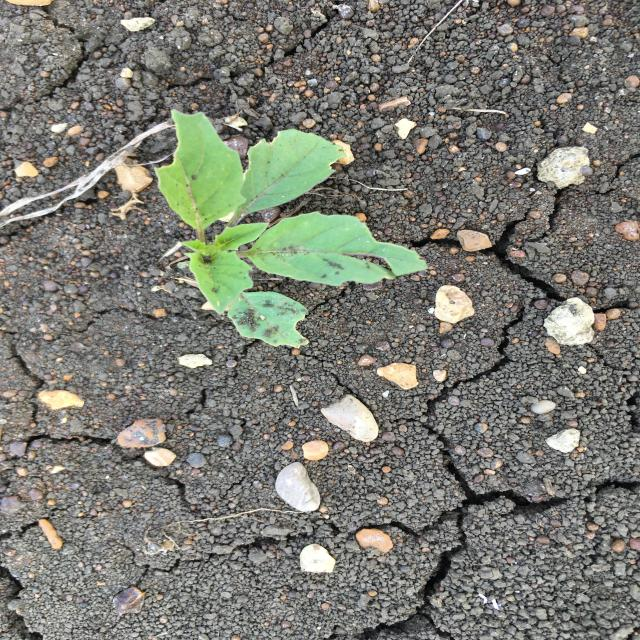CutleafGroundcherry: (152, 109, 432, 351)
